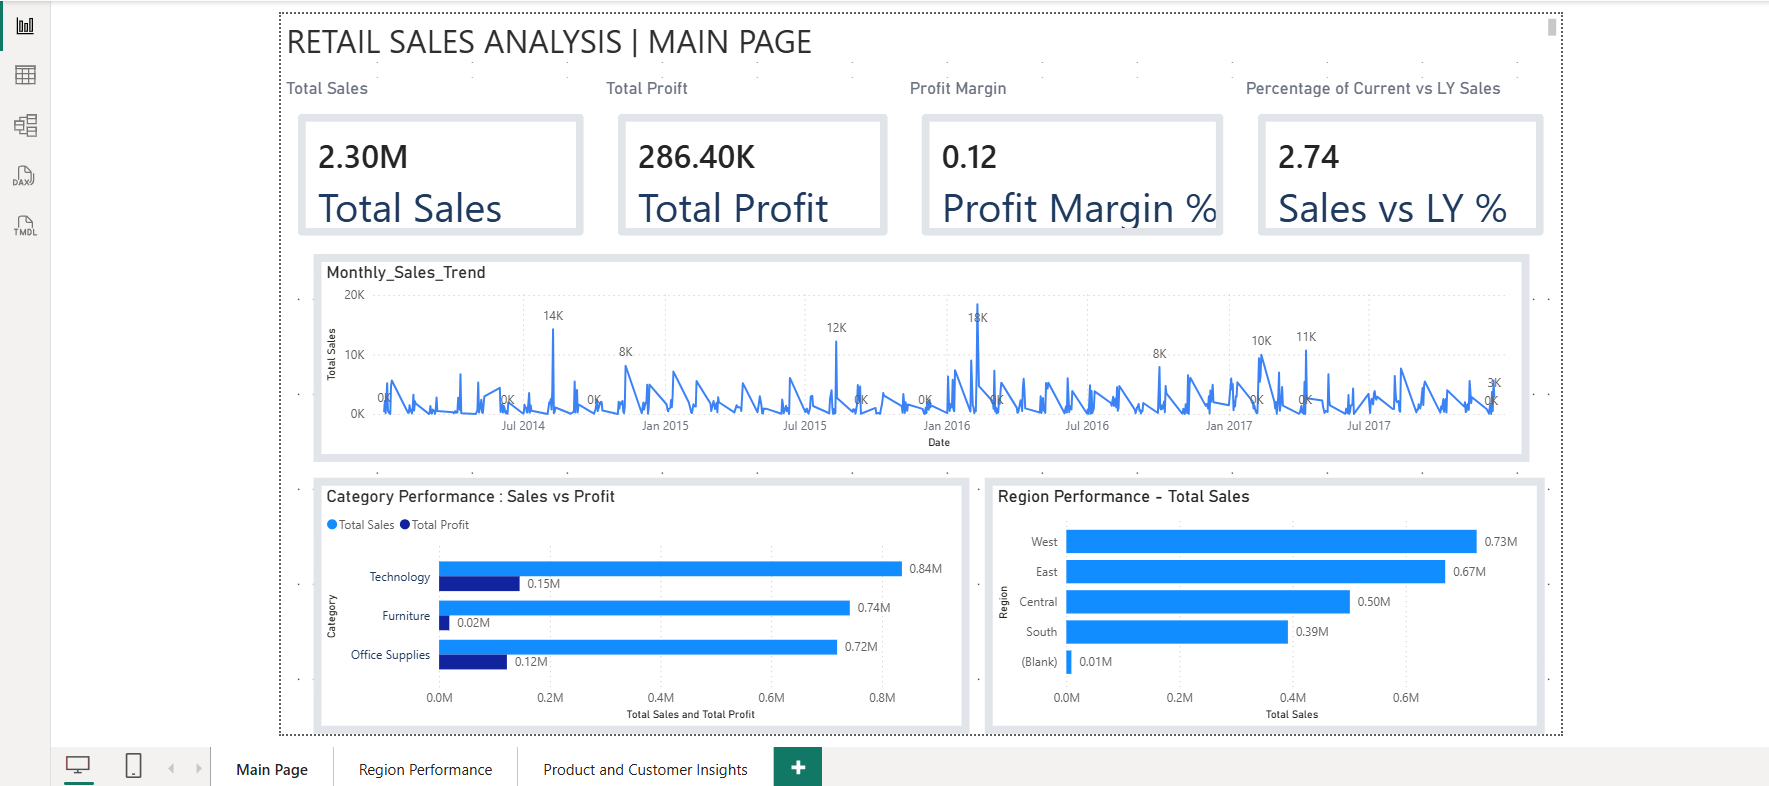

The page's visual inventory and layout, read from the dashboard file:
{"tool":"powerbi","page":{"name":"Main Page","canvas":[1280,720],"ordinal":0},"visuals":[{"type":"textbox","box":[0,0,1280,48],"z":0},{"type":"cardVisual","title":"Total Sales","fields":{"Data":["Dim_Customer_Final.Total Sales"]},"box":[0,64,320,176],"z":1000},{"type":"cardVisual","title":"Total Proift","fields":{"Data":["Dim_Customer_Final.Total Profit"]},"box":[320,64,304,176],"z":2000},{"type":"cardVisual","title":"Profit Margin","fields":{"Data":["Dim_Customer_Final.Profit Margin %"]},"box":[624,64,336,176],"z":3000},{"type":"lineChart","title":"Monthly_Sales_Trend","fields":{"Y":["Dim_Customer_Final.Total Sales"],"Category":["Dim_Date.Date"]},"box":[32,240,1216,208],"z":4000},{"type":"cardVisual","title":"Percentage of Current vs LY Sales","fields":{"Data":["Dim_Customer_Final.Sales vs LY %"]},"box":[960,64,320,176],"z":5000},{"type":"clusteredBarChart","title":"Category Performance : Sales vs Profit","fields":{"Category":["Dim_Product_Final.Category"],"Y":["Dim_Customer_Final.Total Sales","Dim_Customer_Final.Total Profit"]},"box":[32,464,656,256],"z":6000},{"type":"clusteredBarChart","title":"Region Performance - Total Sales","fields":{"Category":["Dim_Region_Final.Region"],"Y":["Dim_Customer_Final.Total Sales"]},"box":[704,464,560,256],"z":7000}]}

Visuals, with their boxes on the page's 1280x720 design canvas (x1, y1, x2, y2). These are canvas units, not pixel positions in the 1769x786 screenshot, which may show the page scaled, cropped or inside an application window:
textbox: left=0, top=0, right=1280, bottom=48
"Total Sales" cardVisual: left=0, top=64, right=320, bottom=240
"Total Proift" cardVisual: left=320, top=64, right=624, bottom=240
"Profit Margin" cardVisual: left=624, top=64, right=960, bottom=240
"Monthly_Sales_Trend" lineChart: left=32, top=240, right=1248, bottom=448
"Percentage of Current vs LY Sales" cardVisual: left=960, top=64, right=1280, bottom=240
"Category Performance : Sales vs Profit" clusteredBarChart: left=32, top=464, right=688, bottom=720
"Region Performance - Total Sales" clusteredBarChart: left=704, top=464, right=1264, bottom=720
